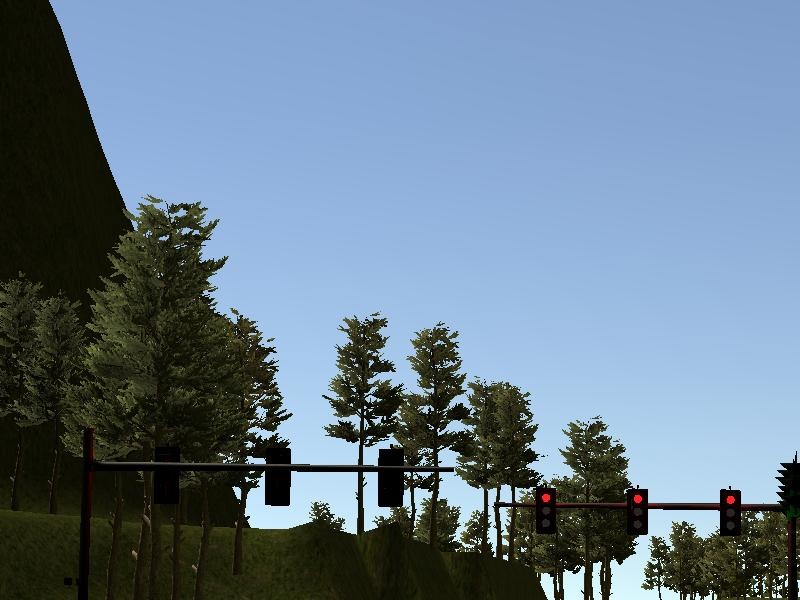Red: (626, 489, 649, 534), (722, 488, 742, 537), (537, 487, 557, 535)
